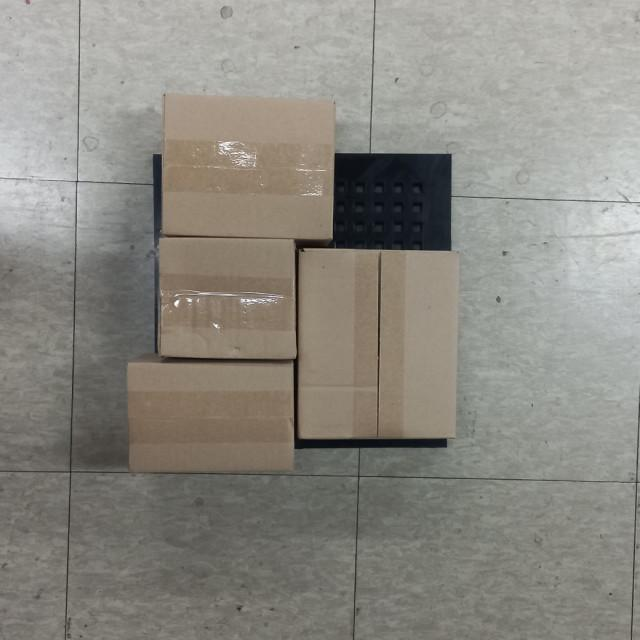box: (294, 246, 460, 446), (158, 88, 340, 245), (124, 358, 298, 477), (152, 237, 301, 360)
